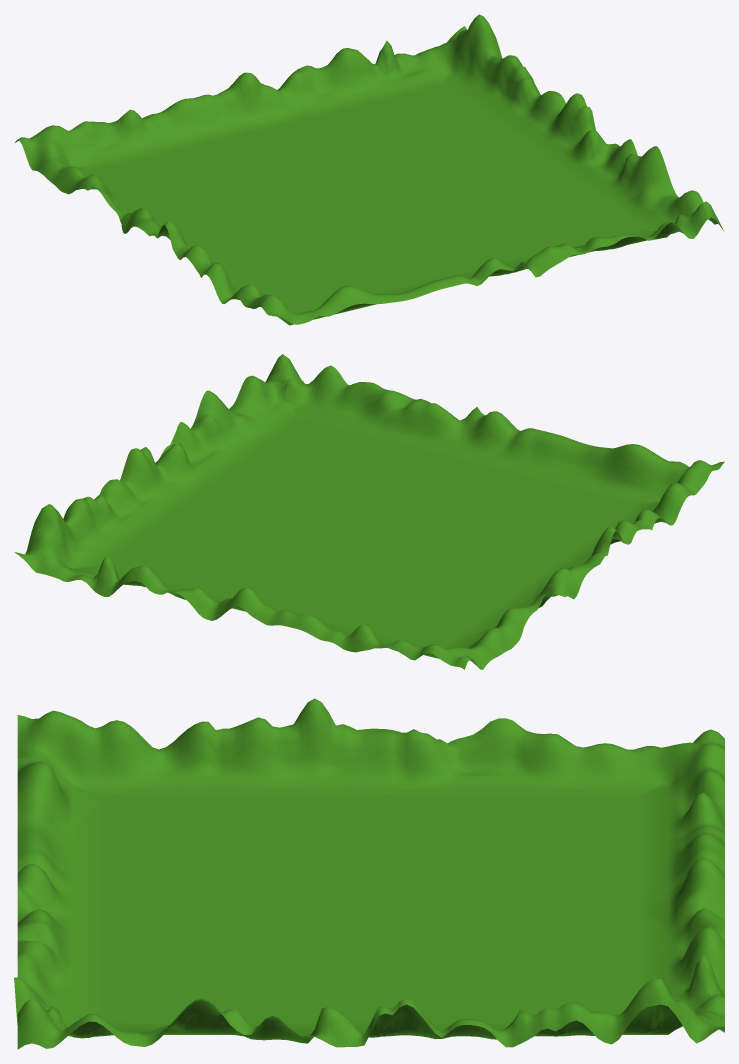
Rendered from Terrain.glb.
The picture shows the model from 3 angles, top to bottom: view 1: azimuth 30°, elevation 25°; view 2: azimuth 150°, elevation 25°; view 3: azimuth 270°, elevation 25°; orthographic projection. The views are drawn at different scales.
Visible parts, largest first — view 1: Terrain-col; view 2: Terrain-col; view 3: Terrain-col.
Part boxes in pixels (x1=…): Terrain-col: x1=15, y1=14, x2=723, y2=325; Terrain-col: x1=14, y1=354, x2=724, y2=669; Terrain-col: x1=14, y1=698, x2=724, y2=1049.
Size of the model in its own units: 15.16 by 1.75 by 15.24.
